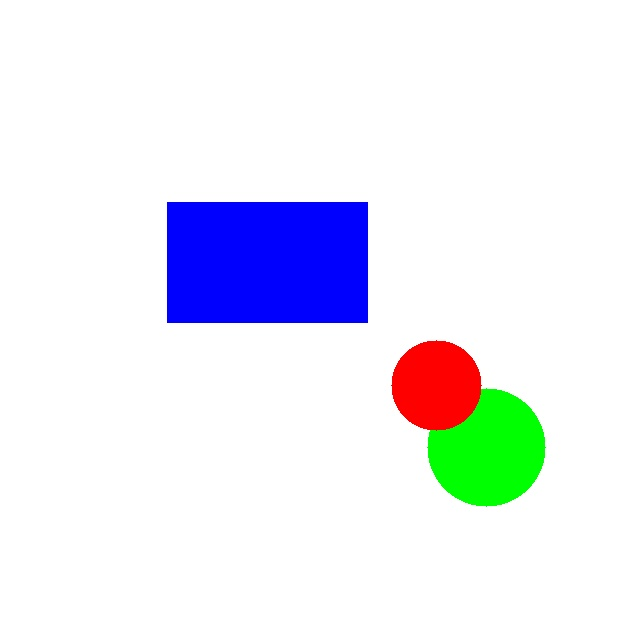cartao: (167, 202, 367, 322)
rosca_externa: (427, 388, 545, 506)
rosca_interna: (391, 340, 481, 430)
